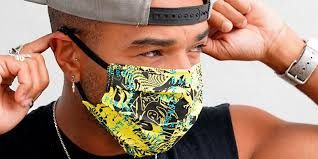with-mask: (52, 3, 220, 159)
